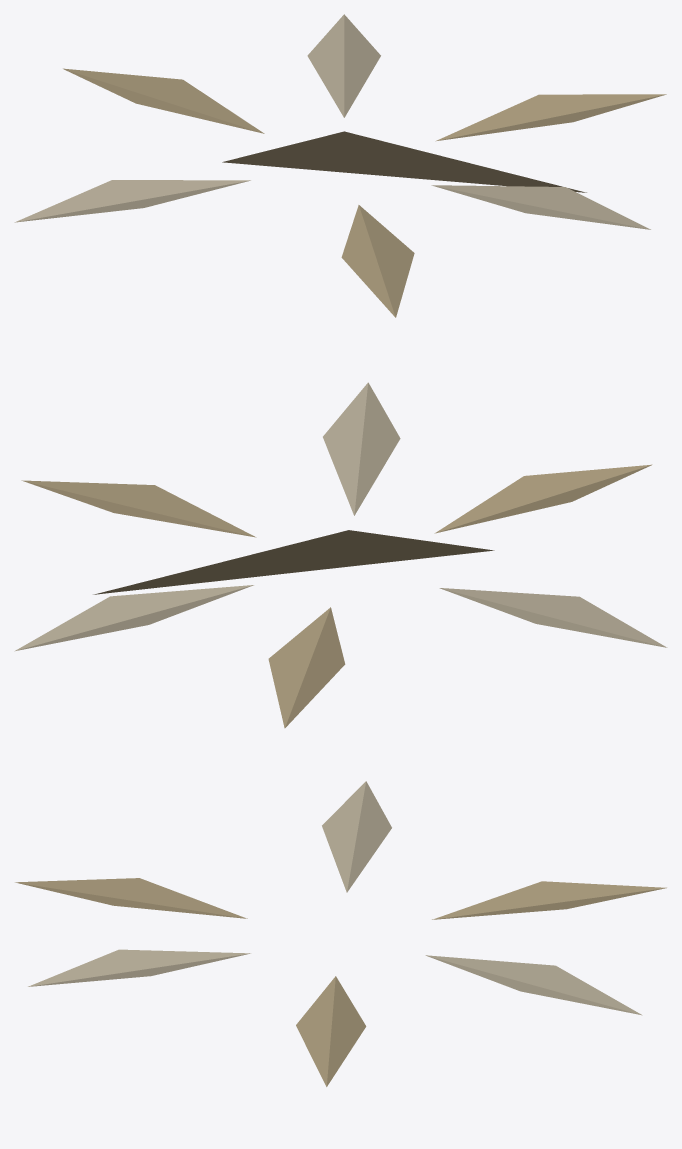
The model's file is shui.kucao@withered__spring.glb.
The picture shows the model from 3 angles, top to bottom: view 1: azimuth 30°, elevation 25°; view 2: azimuth 150°, elevation 25°; view 3: azimuth 270°, elevation 25°; orthographic projection. The views are drawn at different scales.
Visible parts, largest first — view 1: shui.kucao@withered__spring; view 2: shui.kucao@withered__spring; view 3: shui.kucao@withered__spring.
Boxes of the visible parts, x1,y1,x2,y2 form: shui.kucao@withered__spring: [14, 14, 666, 317]; shui.kucao@withered__spring: [14, 382, 667, 728]; shui.kucao@withered__spring: [15, 781, 666, 1086].
Size of the model in its own units: 0.4604 by 0.084 by 0.4301.
